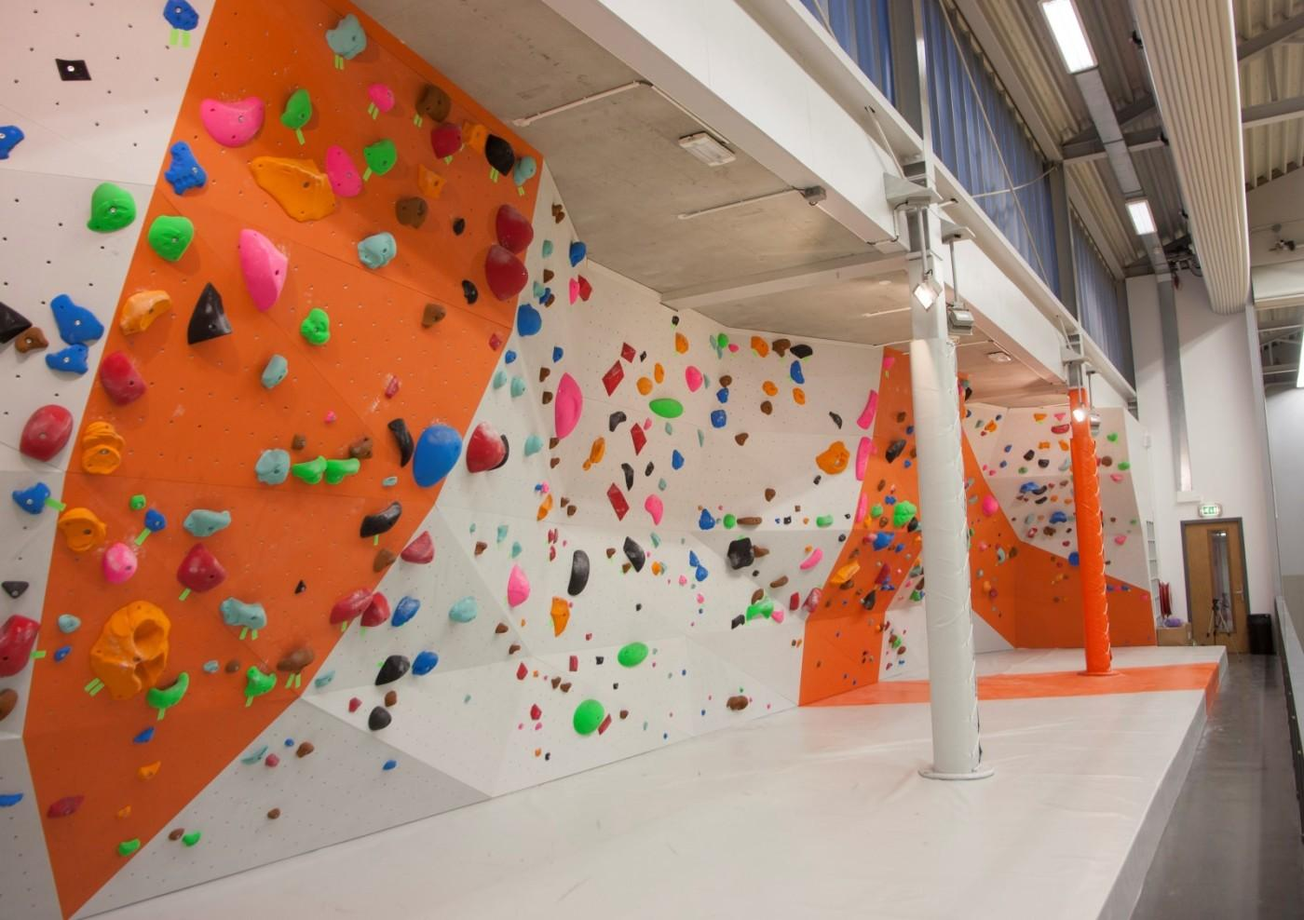black-hold: (71, 587, 194, 713), (242, 130, 348, 236), (396, 415, 472, 496), (37, 289, 111, 358), (467, 240, 537, 308), (108, 277, 177, 342), (48, 498, 113, 563), (150, 137, 213, 204), (89, 346, 152, 412), (139, 203, 202, 267), (239, 229, 288, 311), (17, 398, 76, 466), (174, 279, 233, 346), (199, 93, 268, 150), (168, 541, 230, 603), (481, 199, 543, 260), (315, 140, 368, 203), (0, 610, 43, 685), (320, 11, 375, 66), (322, 580, 379, 632), (351, 223, 404, 275), (352, 498, 409, 545), (142, 670, 198, 716), (87, 183, 135, 232), (9, 472, 57, 521), (811, 435, 859, 483), (277, 84, 322, 135), (398, 528, 446, 575), (475, 131, 523, 177), (565, 694, 611, 741), (216, 595, 271, 634), (295, 304, 341, 350), (359, 134, 405, 179), (413, 81, 458, 127), (371, 648, 414, 696), (383, 415, 421, 469), (466, 423, 505, 474), (273, 640, 320, 682), (555, 372, 583, 441), (425, 117, 468, 160), (100, 541, 139, 588), (0, 301, 35, 353), (406, 163, 450, 204), (157, 0, 204, 38), (79, 441, 123, 479), (256, 352, 294, 394), (481, 434, 518, 477), (11, 323, 51, 362), (289, 454, 332, 490), (504, 151, 543, 190), (616, 534, 653, 574), (363, 77, 400, 116), (183, 509, 232, 538), (254, 448, 291, 486), (596, 358, 631, 397), (45, 344, 89, 375), (82, 420, 125, 451), (406, 645, 442, 682), (614, 638, 653, 672), (566, 549, 593, 598), (603, 480, 634, 522), (855, 388, 884, 431), (244, 665, 279, 700), (394, 195, 429, 230), (361, 702, 396, 737), (724, 536, 757, 572), (390, 594, 421, 632), (365, 543, 401, 575), (850, 435, 874, 483), (640, 491, 671, 527), (514, 301, 544, 337), (360, 591, 390, 627), (324, 457, 362, 485), (507, 564, 530, 609), (446, 596, 479, 625), (45, 795, 85, 818), (550, 595, 571, 638), (135, 753, 164, 784), (240, 743, 273, 770), (55, 58, 93, 81), (0, 125, 25, 159), (890, 498, 919, 527), (744, 596, 776, 621), (131, 722, 159, 750), (798, 547, 826, 575), (533, 493, 559, 523), (461, 122, 486, 153), (602, 407, 629, 434), (800, 585, 824, 615), (692, 507, 718, 534), (746, 333, 773, 359), (115, 834, 143, 859), (629, 421, 649, 456), (649, 398, 683, 418), (768, 333, 794, 358), (522, 433, 546, 460), (0, 688, 19, 722), (180, 825, 205, 850), (50, 641, 74, 666), (348, 435, 373, 459), (588, 436, 608, 466), (460, 277, 480, 306), (633, 374, 657, 398), (423, 303, 446, 328), (312, 669, 339, 690), (789, 340, 814, 362), (568, 241, 588, 268), (665, 449, 688, 472), (383, 376, 404, 401), (855, 492, 870, 526), (685, 365, 703, 393), (787, 359, 805, 387), (57, 614, 82, 634), (508, 374, 528, 399), (1, 581, 30, 598), (617, 342, 639, 364), (595, 713, 616, 736), (145, 509, 166, 531), (760, 378, 781, 400), (293, 739, 316, 759), (449, 216, 470, 237), (166, 824, 187, 845), (747, 586, 768, 607), (512, 661, 532, 682), (827, 409, 847, 430), (526, 704, 546, 724), (727, 612, 748, 631), (578, 274, 593, 300), (621, 463, 634, 492), (768, 574, 790, 591), (485, 333, 504, 352), (262, 752, 281, 771), (115, 804, 135, 822), (536, 286, 553, 307), (514, 661, 531, 682), (684, 549, 701, 569), (0, 793, 24, 807), (726, 696, 748, 711), (265, 806, 283, 824), (493, 621, 511, 639), (734, 430, 752, 448), (290, 433, 307, 452), (293, 578, 310, 597), (493, 370, 508, 391), (569, 277, 580, 305), (495, 523, 509, 545), (321, 409, 339, 426), (129, 494, 147, 511), (751, 542, 770, 558), (694, 564, 709, 583), (676, 332, 688, 355), (717, 373, 734, 389), (711, 410, 726, 428), (223, 659, 241, 674), (542, 293, 558, 309), (648, 560, 664, 576), (548, 674, 563, 691), (380, 758, 398, 772), (654, 362, 665, 384), (558, 678, 573, 694), (643, 461, 657, 478), (538, 366, 551, 384), (737, 516, 763, 525), (793, 387, 806, 405), (474, 541, 489, 556), (552, 210, 567, 225), (770, 609, 785, 624), (384, 691, 398, 707), (816, 514, 833, 527), (715, 387, 728, 404), (760, 400, 773, 417), (696, 427, 707, 447), (789, 592, 800, 612), (381, 475, 399, 487), (650, 530, 662, 548), (603, 545, 617, 560), (723, 514, 736, 530), (203, 660, 219, 673), (533, 281, 545, 298), (542, 239, 553, 257), (512, 541, 523, 559), (620, 561, 634, 575), (716, 333, 729, 348), (349, 698, 362, 713), (551, 203, 564, 218), (581, 459, 594, 473), (882, 357, 896, 370), (569, 655, 579, 673), (542, 391, 554, 406), (708, 334, 719, 350), (727, 341, 740, 354), (544, 269, 555, 284), (553, 347, 563, 363), (283, 737, 296, 749), (765, 488, 776, 502), (871, 505, 883, 517), (382, 477, 398, 486), (509, 644, 521, 656), (637, 350, 649, 362), (677, 575, 689, 587), (505, 351, 516, 364), (549, 437, 560, 450), (657, 479, 668, 491), (782, 515, 794, 526), (664, 422, 673, 436), (670, 315, 681, 326), (595, 655, 606, 666), (550, 457, 560, 469), (703, 374, 711, 389), (541, 481, 550, 494), (534, 482, 544, 493), (567, 505, 577, 516), (533, 747, 544, 757), (837, 533, 847, 544), (870, 444, 879, 456), (813, 474, 822, 486), (548, 529, 555, 544), (550, 545, 556, 562), (561, 497, 570, 508), (620, 709, 629, 720), (660, 562, 667, 576), (553, 527, 559, 543), (463, 694, 472, 704), (534, 722, 544, 731), (717, 345, 723, 360), (697, 594, 705, 604), (470, 523, 476, 535), (635, 603, 643, 612), (544, 752, 551, 762), (585, 633, 593, 641), (517, 723, 524, 731), (774, 517, 781, 524), (845, 513, 852, 520), (521, 618, 526, 627), (613, 683, 619, 690), (569, 601, 573, 608), (563, 540, 567, 547), (544, 675, 548, 680)
